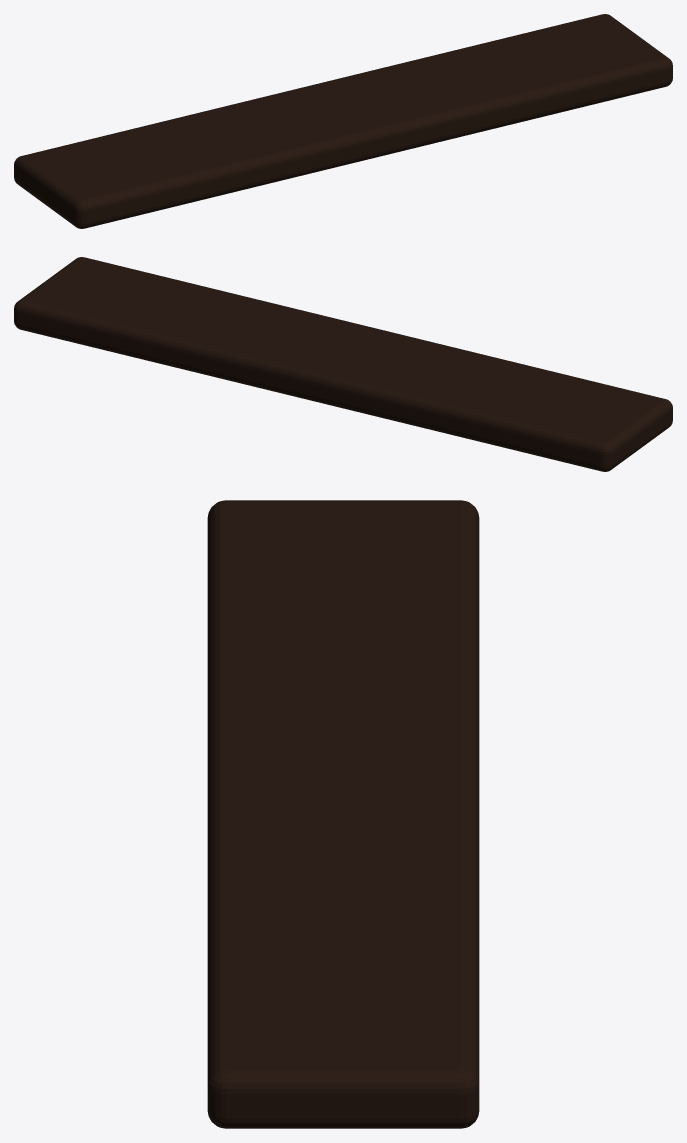
The model's file is SeesawModel.obj.
The picture shows the model from 3 angles, top to bottom: view 1: azimuth 30°, elevation 25°; view 2: azimuth 150°, elevation 25°; view 3: azimuth 270°, elevation 25°; orthographic projection. The views are drawn at different scales.
Parts seen in each view (by area): view 1: 立方体; view 2: 立方体; view 3: 立方体.
Boxes of the visible parts, x1,y1,x2,y2 form: 立方体: [14, 14, 672, 228]; 立方体: [14, 257, 672, 471]; 立方体: [207, 500, 479, 1128].
Bounding box in the file's own units: 10.16 × 0.46 × 2.
